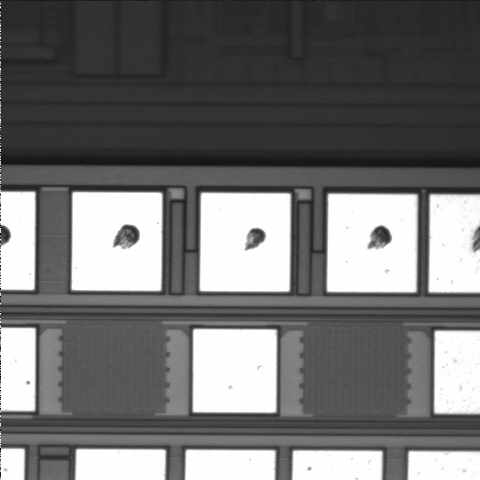pad: (72, 192, 162, 291), (200, 193, 290, 292), (327, 194, 417, 292), (193, 329, 277, 413)
